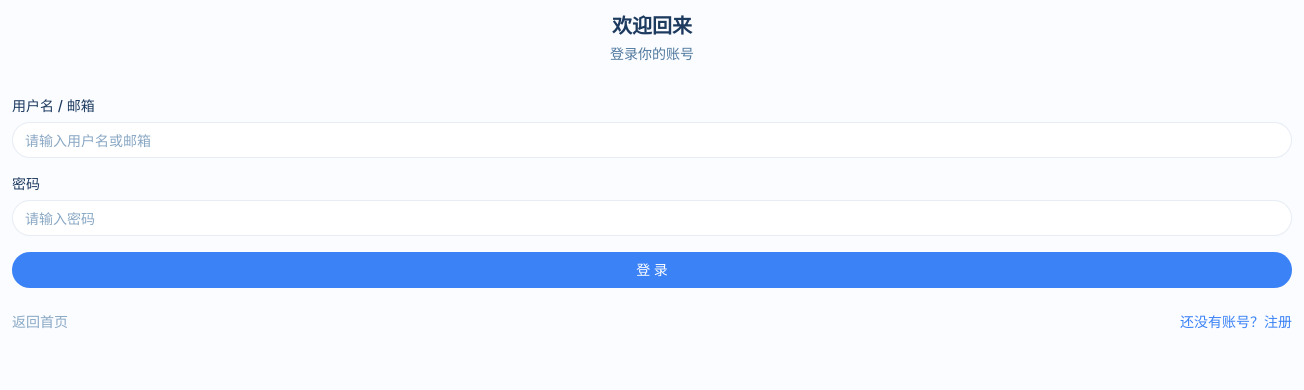
Scenario: LoginPage › 空账号提交显示校验错误
The width and height of the screenshot is (1304, 390).
Click the button "登 录" at (652, 270), box [12, 252, 1292, 288]
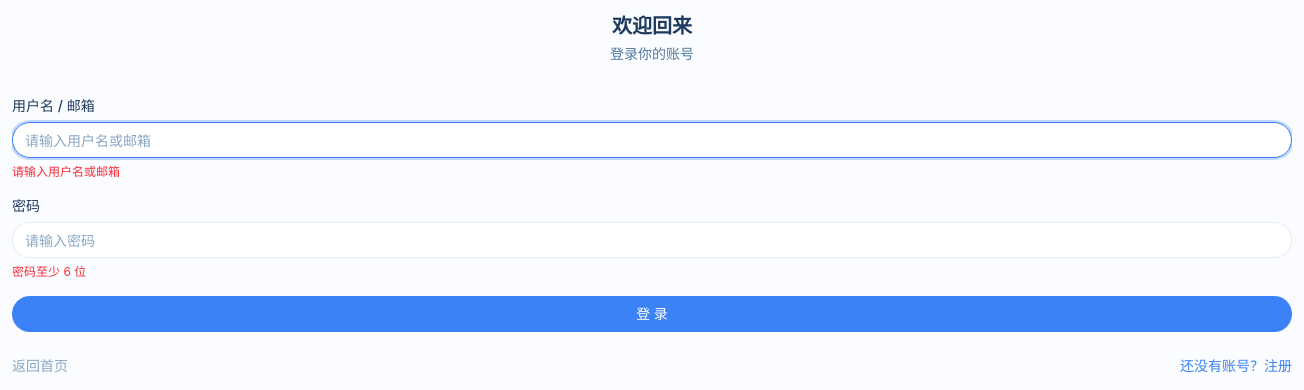
Check: the text "请输入用户名或邮箱" is shown, box [12, 164, 120, 179]
